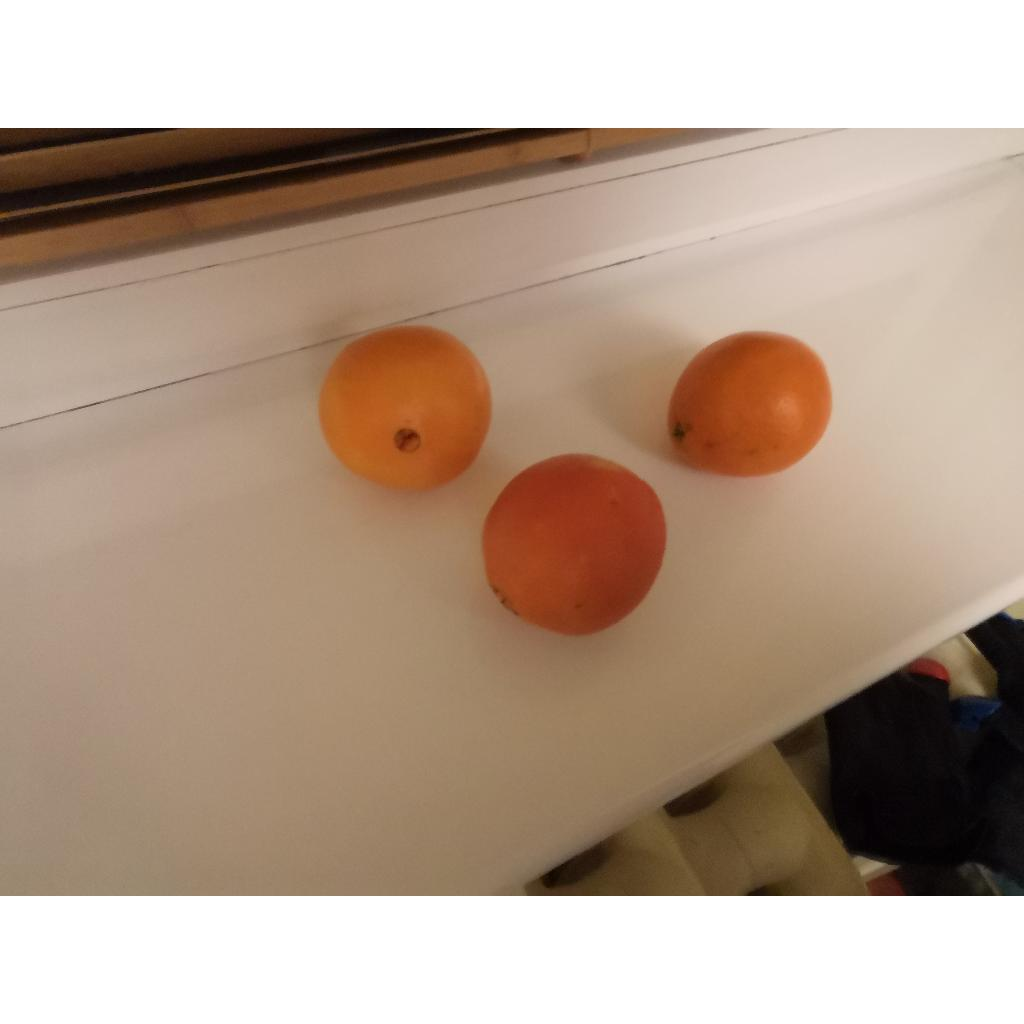orange: (482, 454, 666, 634), (318, 326, 492, 490), (668, 332, 832, 476)
